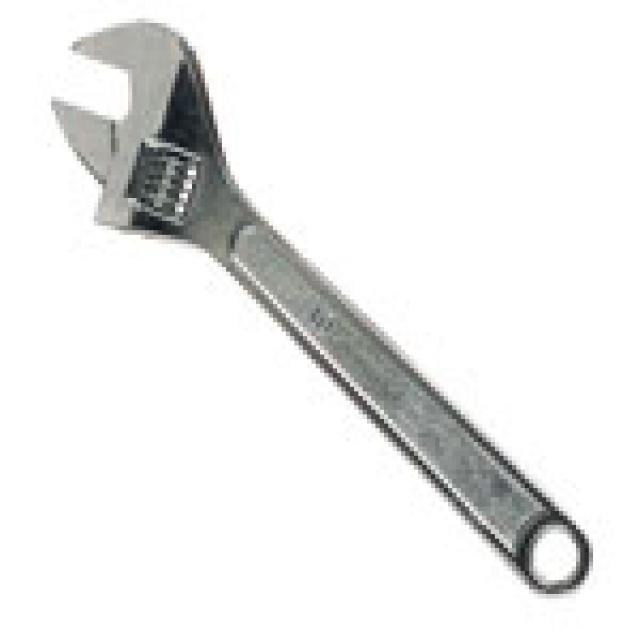wrench: (41, 6, 598, 612)
